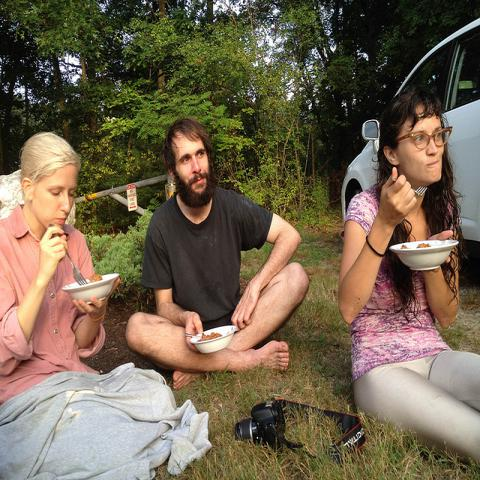car: (341, 17, 479, 242)
